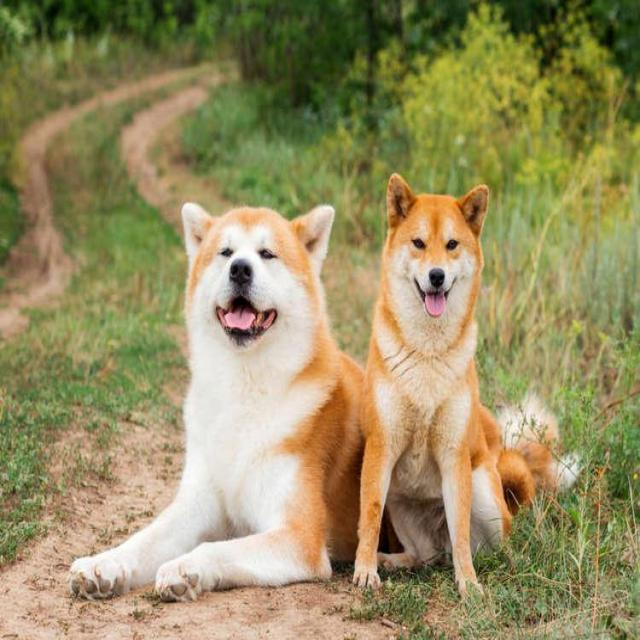Dog: (176, 192, 339, 384), (378, 164, 494, 342)
